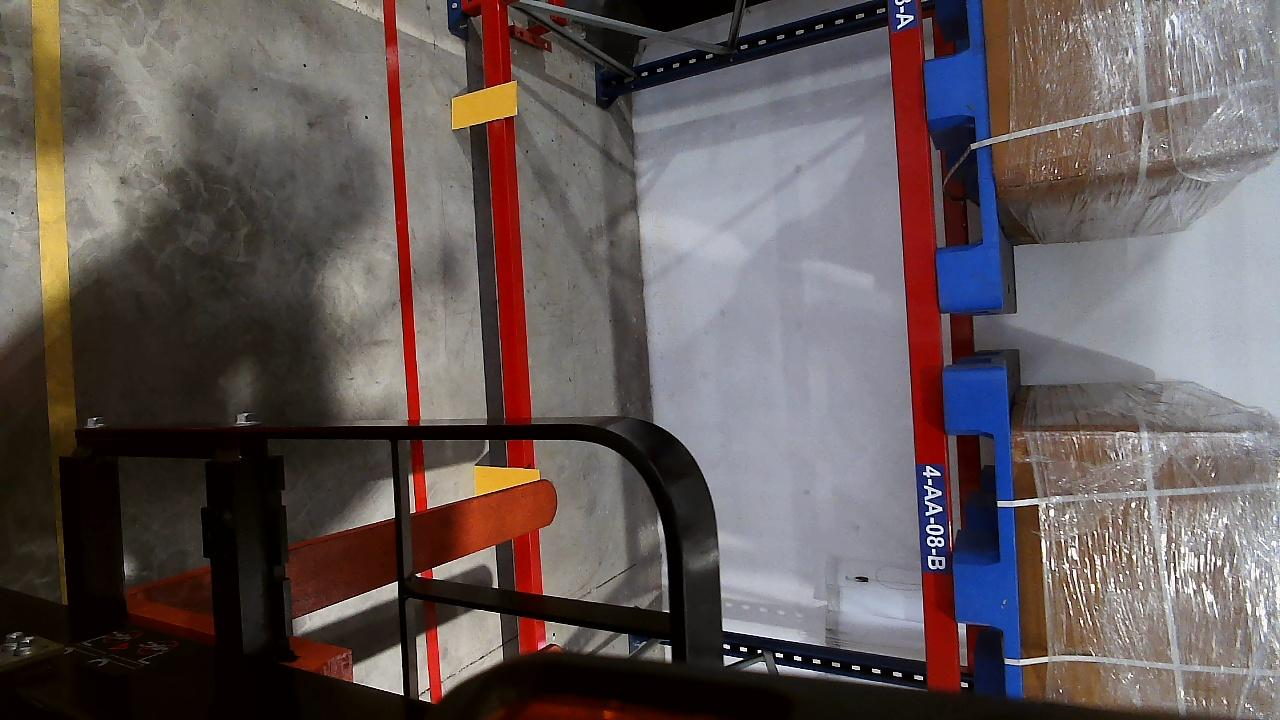h_rack: (882, 1, 954, 690), (478, 15, 550, 649)
orange_strip: (451, 82, 519, 129)
red_line: (380, 0, 421, 429)
small_pallet: (916, 1, 1007, 304), (942, 372, 1027, 691)
yellow_line: (30, 7, 77, 453)
